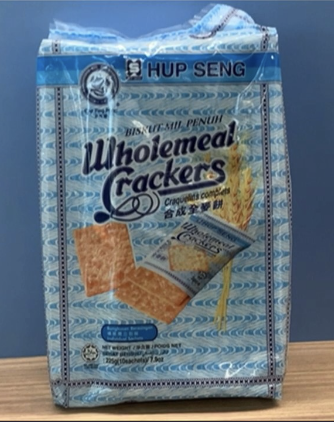crackers_200g-299g: (72, 56, 266, 371)
